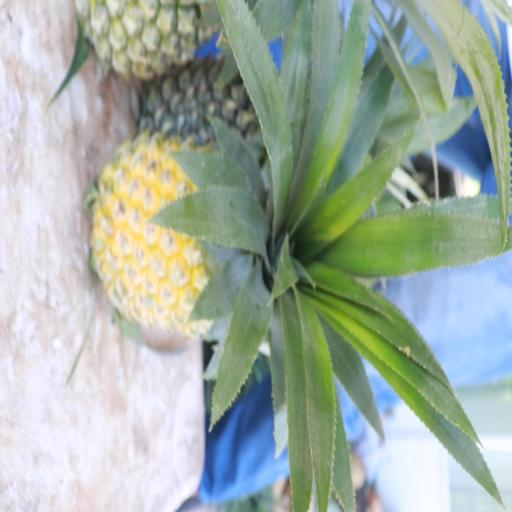Pineapple - v8 v1: (96, 127, 337, 340)
